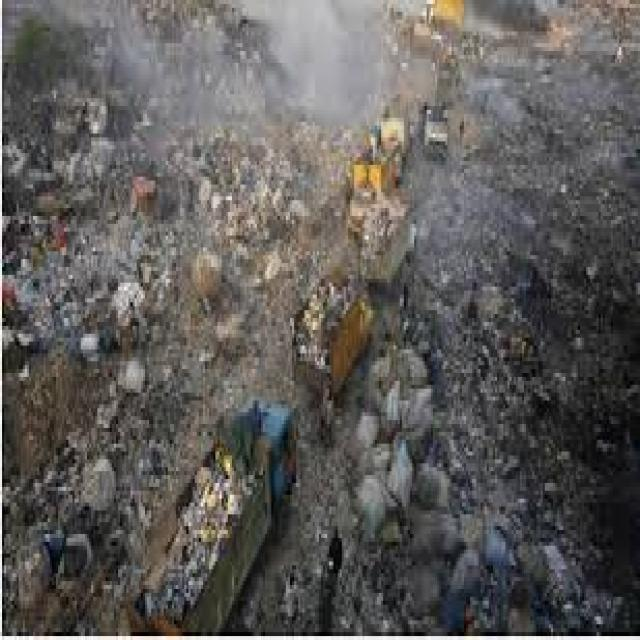Smoke: (75, 1, 394, 150)
